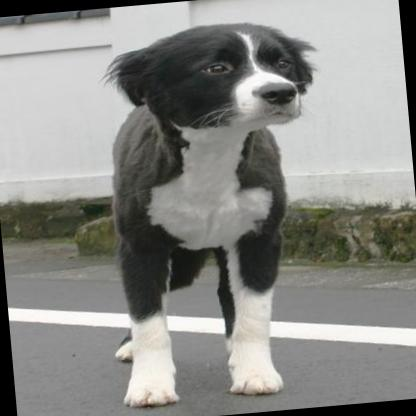Border_collie: (81, 14, 346, 410)
